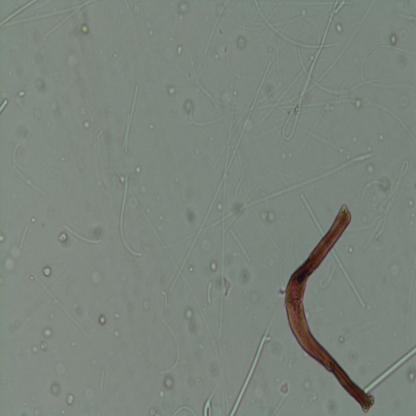Background material: (348, 39, 416, 90), (367, 92, 416, 143), (83, 366, 103, 406), (41, 289, 63, 322), (31, 324, 52, 356), (386, 260, 406, 290), (110, 307, 124, 347), (4, 244, 21, 276), (86, 263, 102, 286), (184, 310, 198, 334), (54, 356, 66, 383), (130, 158, 145, 179), (176, 0, 189, 21), (352, 90, 364, 112), (219, 276, 232, 296), (186, 206, 198, 227), (144, 22, 157, 41), (48, 105, 64, 120), (66, 53, 80, 70), (157, 212, 168, 233), (258, 210, 277, 222), (163, 374, 175, 392), (199, 238, 213, 253), (49, 382, 62, 398), (235, 33, 247, 50), (131, 3, 143, 16), (38, 76, 46, 94), (40, 266, 53, 277), (65, 393, 75, 407), (174, 44, 184, 58), (167, 84, 177, 98), (407, 369, 416, 383), (209, 260, 218, 274), (81, 119, 92, 130), (15, 89, 27, 99), (97, 316, 107, 327), (390, 32, 397, 46)
Glass filter fibre: (169, 61, 271, 293), (284, 204, 376, 410), (280, 0, 341, 143), (242, 150, 370, 207), (254, 1, 338, 51), (228, 330, 269, 416), (7, 0, 92, 34), (376, 157, 410, 236), (364, 347, 416, 394), (330, 249, 366, 308), (119, 174, 141, 258), (120, 82, 140, 153), (10, 141, 36, 192), (158, 319, 180, 373), (300, 195, 326, 238), (0, 0, 37, 29), (63, 222, 102, 246), (228, 227, 253, 264), (173, 404, 197, 416), (18, 224, 29, 248), (201, 396, 214, 415), (0, 96, 8, 114), (207, 280, 212, 305)
